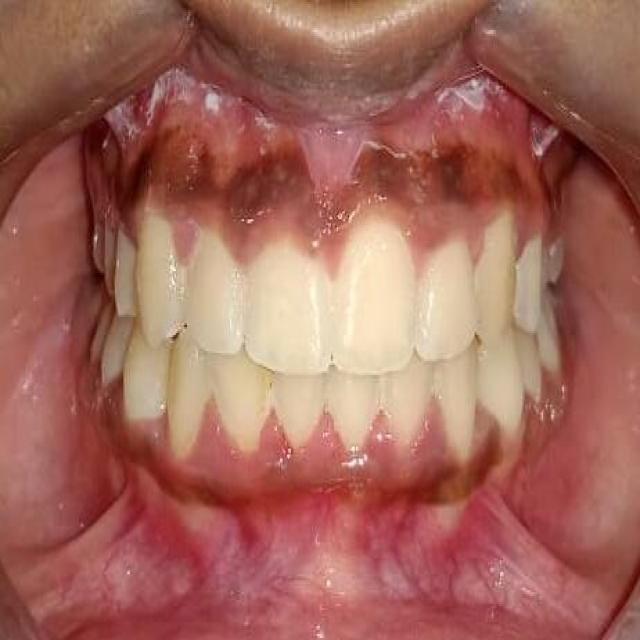tooth: (238, 231, 346, 387), (321, 229, 431, 363), (183, 227, 249, 345), (420, 253, 489, 351), (464, 223, 522, 339), (206, 351, 276, 447), (137, 217, 189, 343), (170, 333, 208, 463), (126, 317, 166, 423), (328, 365, 377, 448), (381, 367, 428, 450), (274, 376, 328, 446), (485, 351, 522, 449), (435, 363, 472, 450)
